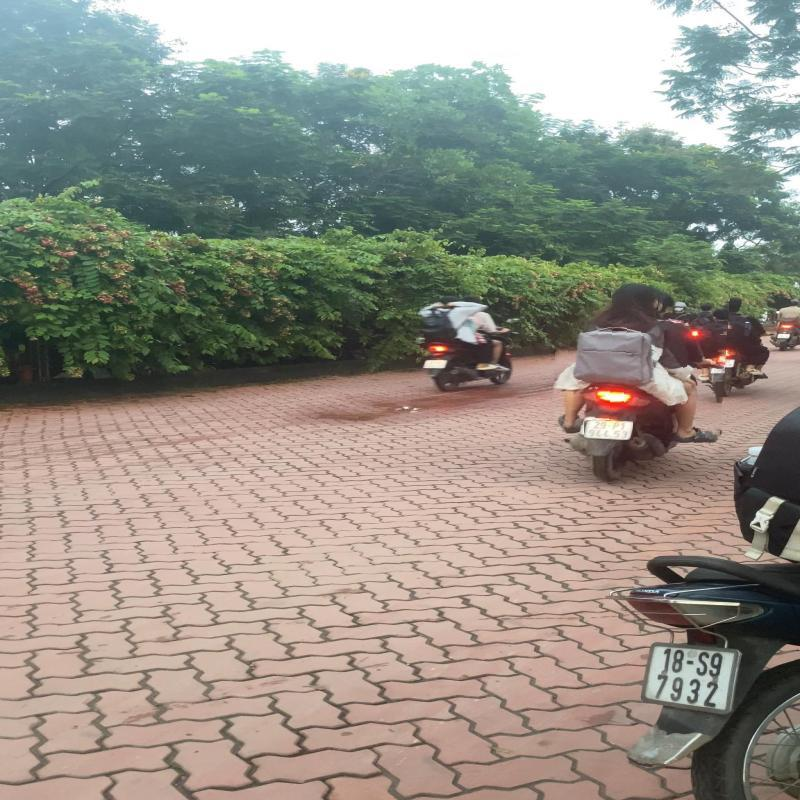licenseplate: (584, 420, 633, 440)
motorcyclist: (550, 280, 728, 488)
nohelmet: (611, 284, 658, 311)
